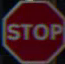Stop: (3, 3, 63, 58)
